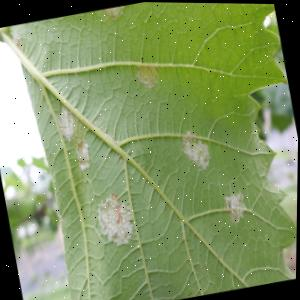Folha: (5, 0, 300, 300)
Fungo: (93, 188, 137, 248), (177, 124, 214, 173), (53, 102, 78, 143), (222, 188, 249, 225), (133, 59, 161, 90), (73, 137, 93, 170), (102, 4, 126, 22)
